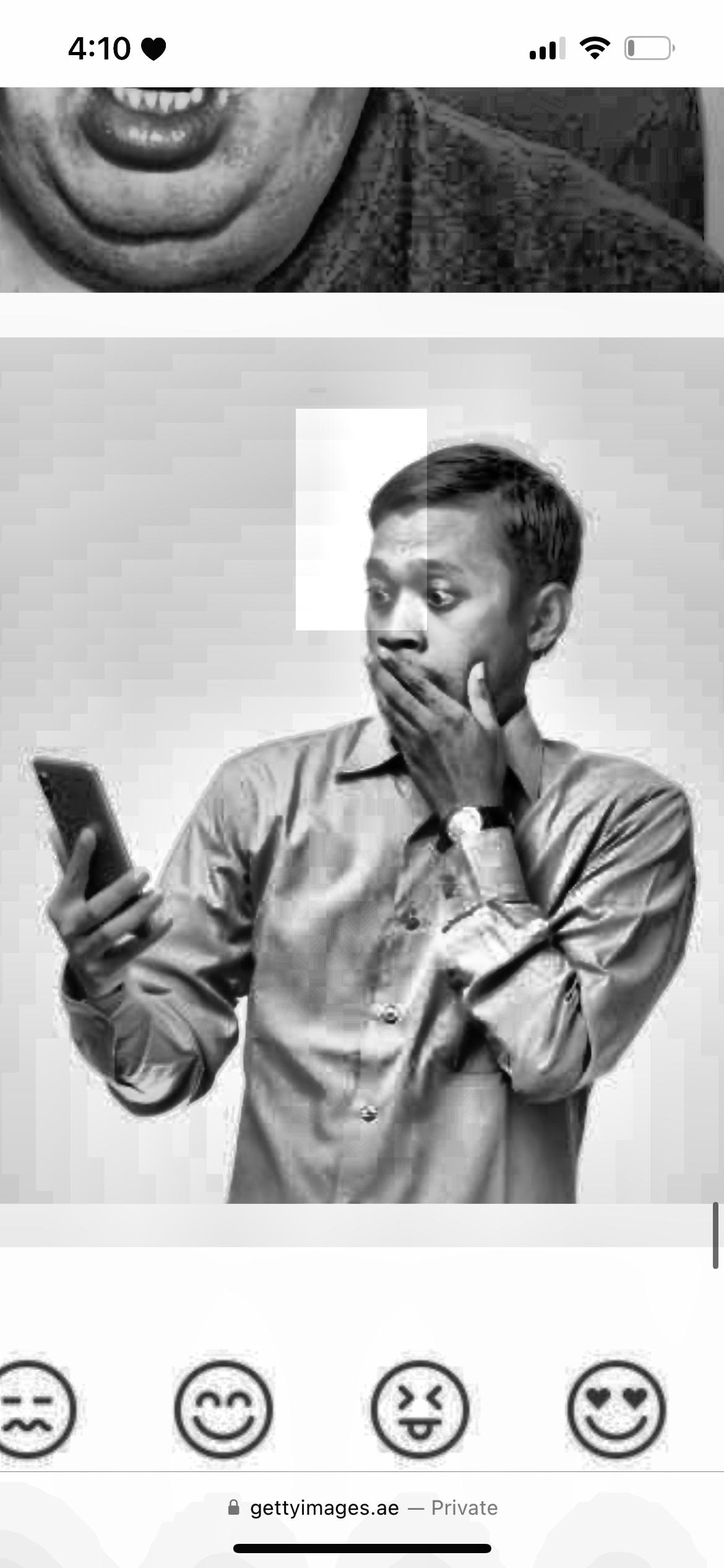surprised: (366, 505, 528, 780)
